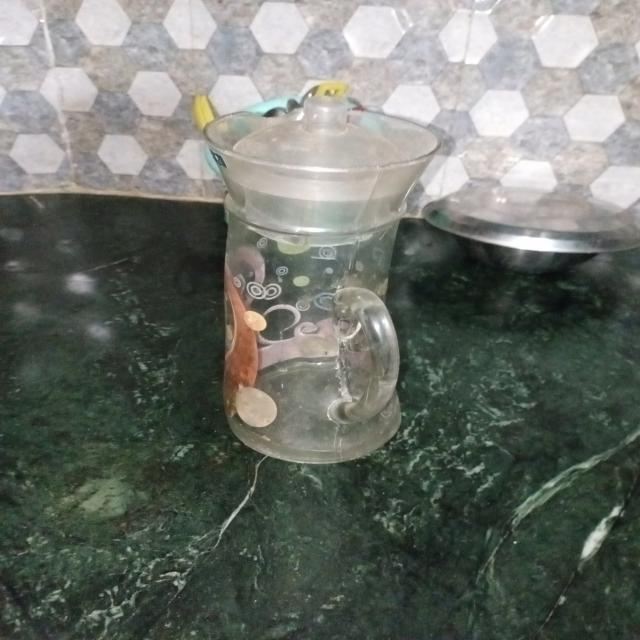Glass: (196, 89, 448, 469)
